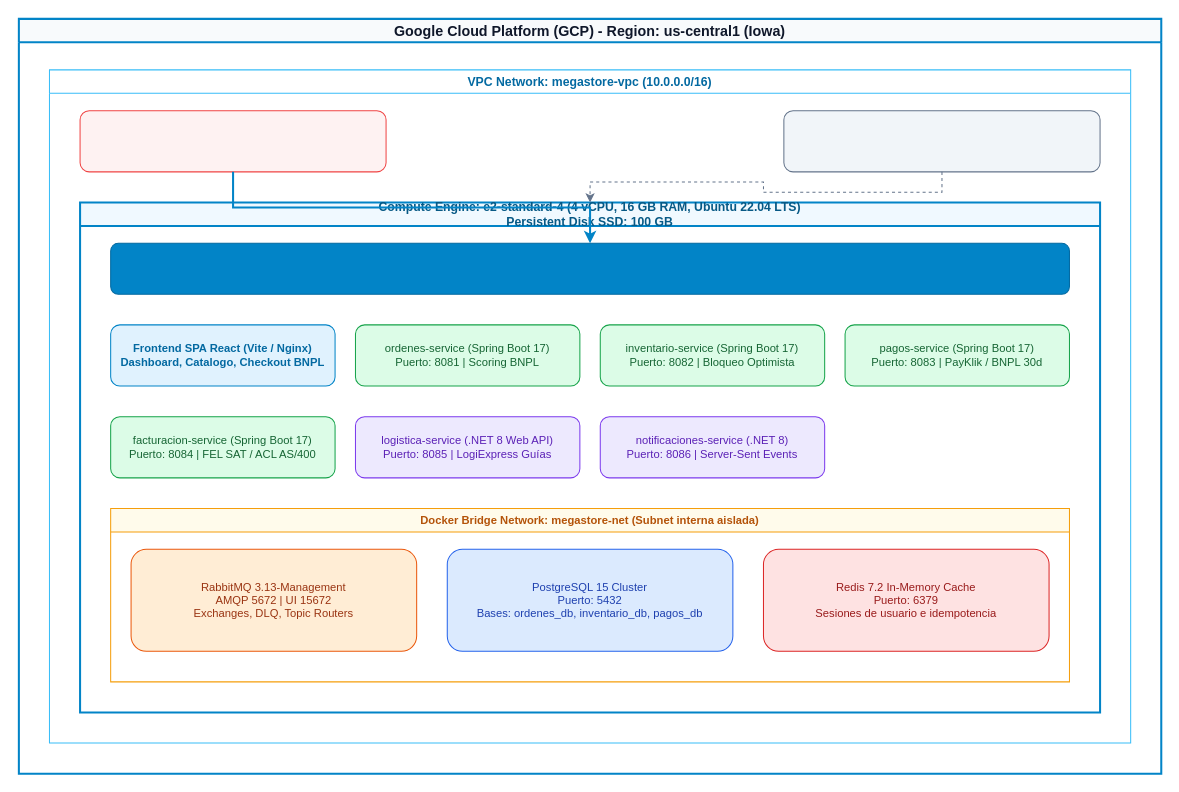
This 1179x792 diagram has some shape labels left out. The shapes that lost their labels are listed below. From the top down, each one's centre as x and y in pixels, then its label:
At (x=232, y=141): "GCP Cloud Firewall Rules Permite: 80 (HTTP), 443 (HTTPS), 22 (SSH Deploy)".
At (x=941, y=141): "GitHub Actions CI/CD Runner SSH Deploy via Service Account".
At (x=589, y=268): "Nginx Reverse Proxy & SSL Termination (Puertos 80, 443)".
